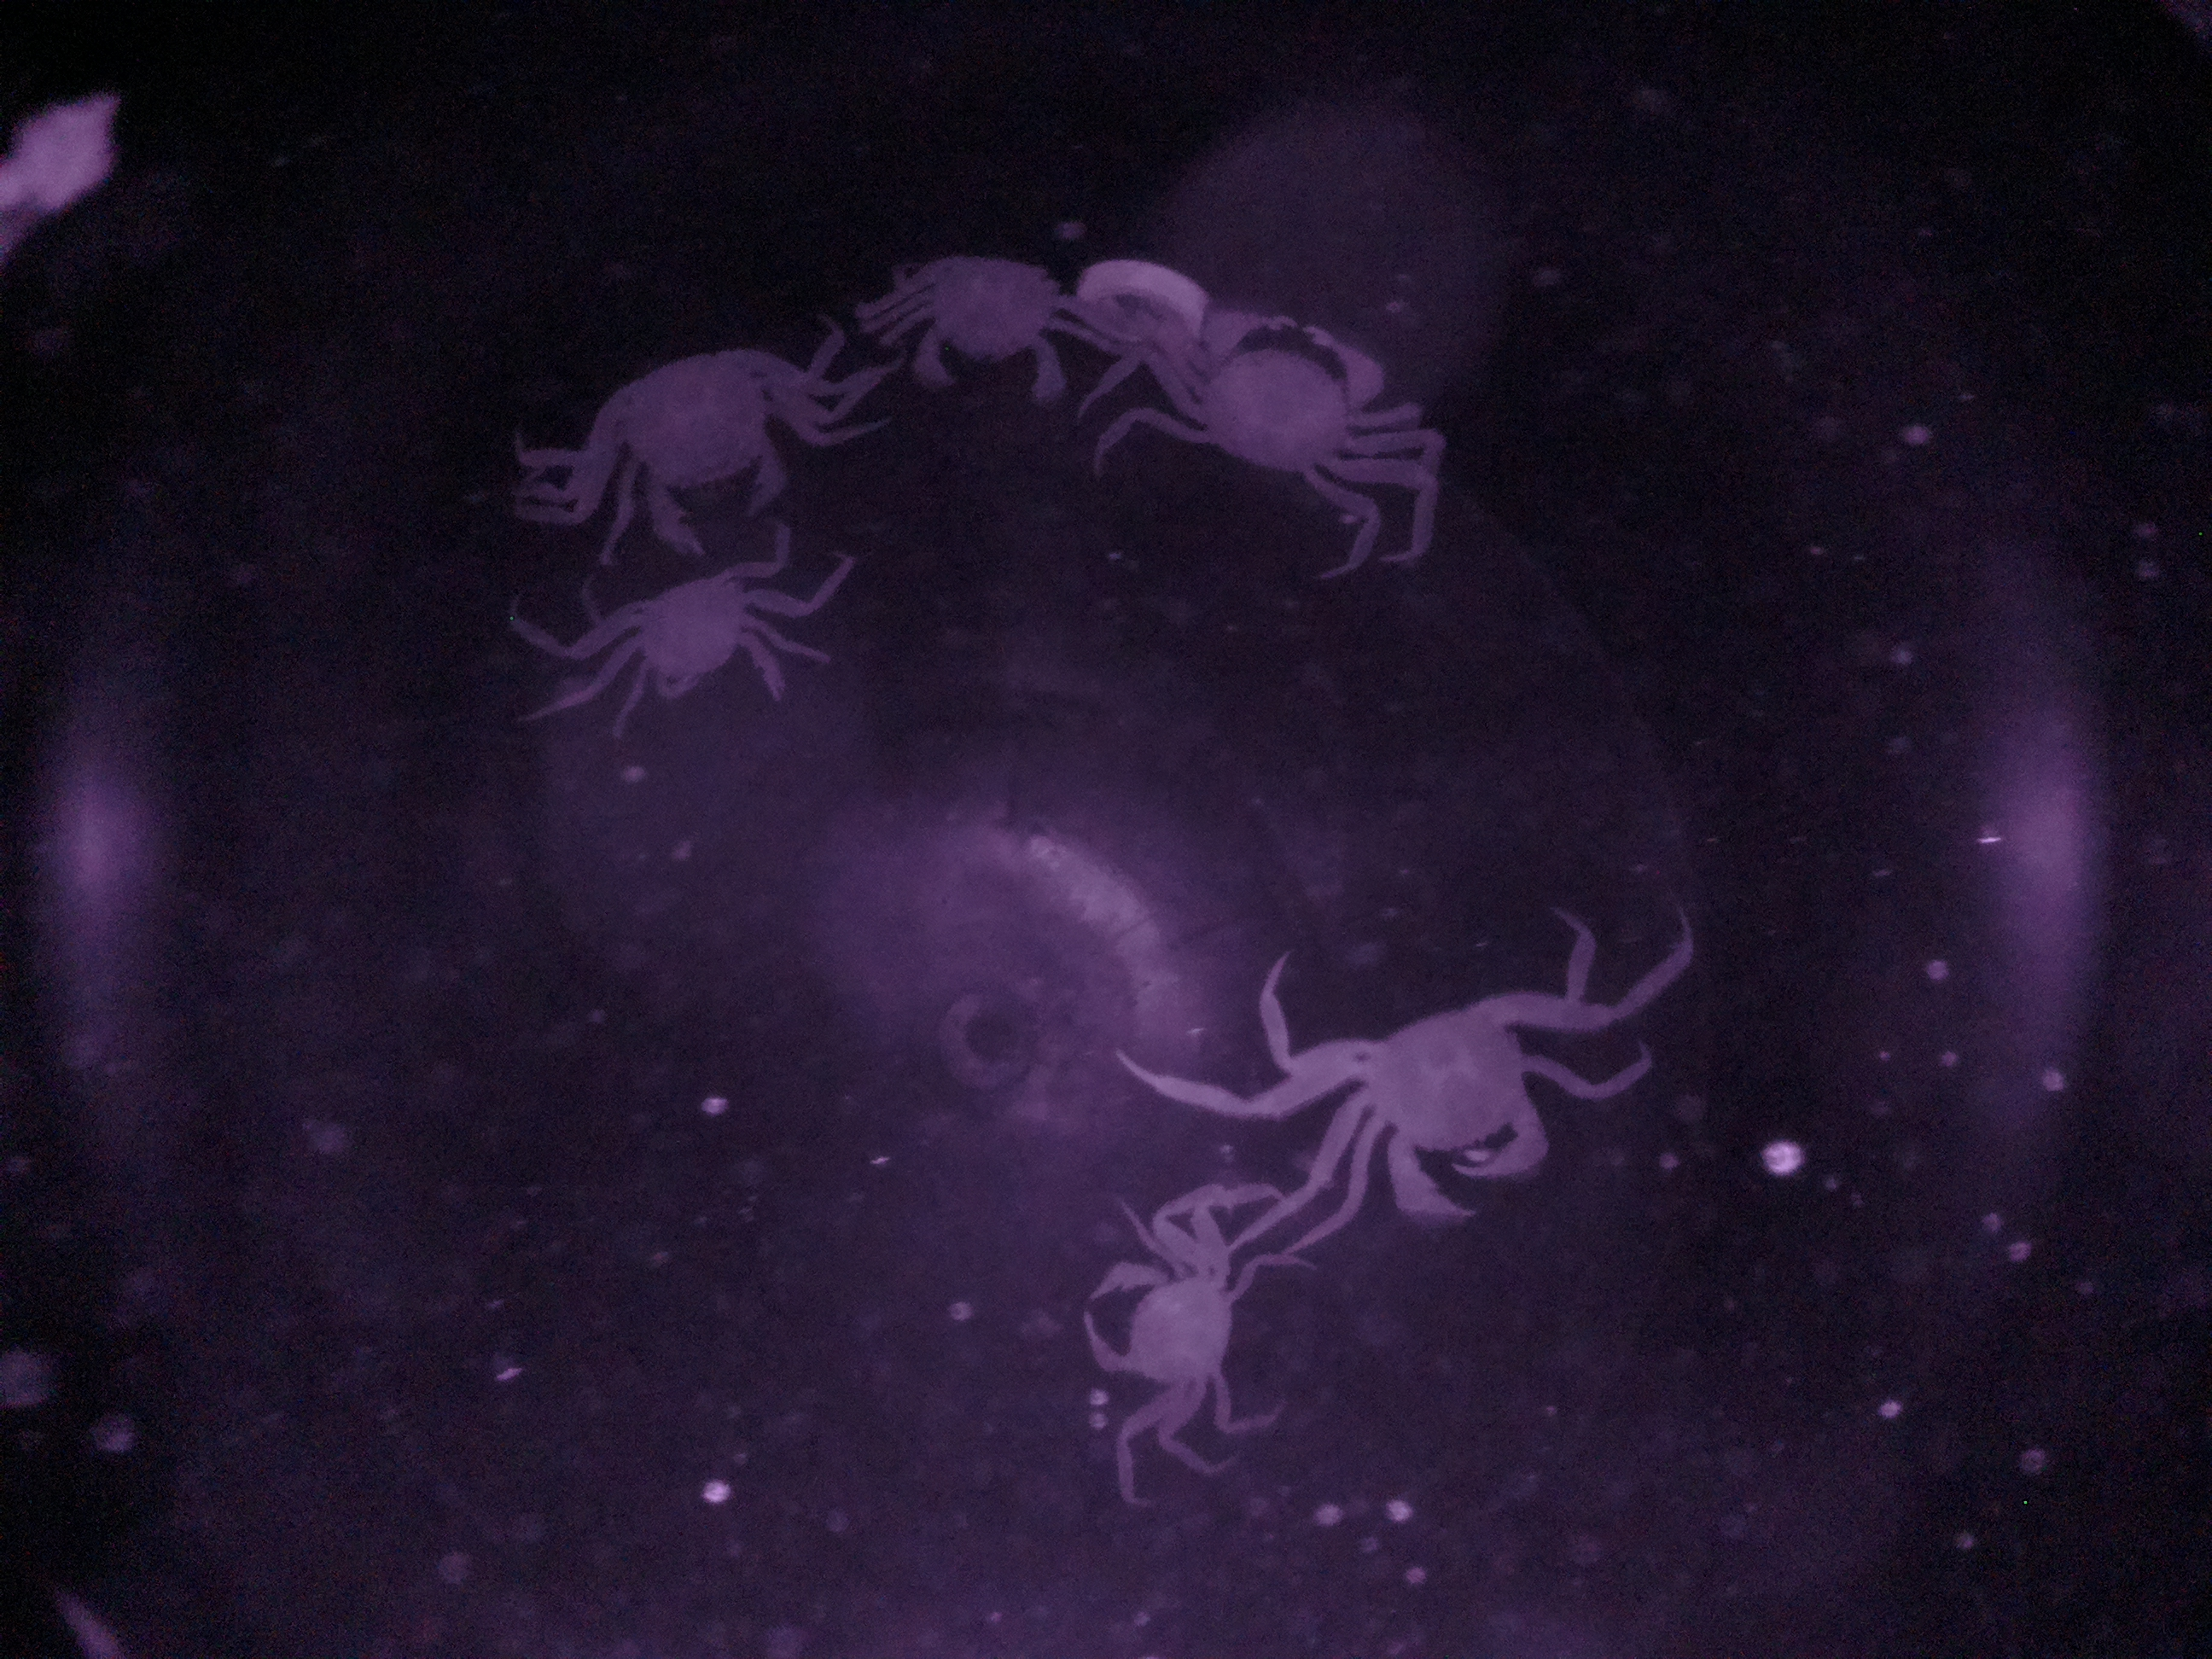Crab: (1291, 981, 1576, 1229), (1163, 291, 1399, 519), (580, 335, 831, 538), (603, 551, 798, 739), (1069, 1223, 1251, 1415), (897, 242, 1080, 425)
